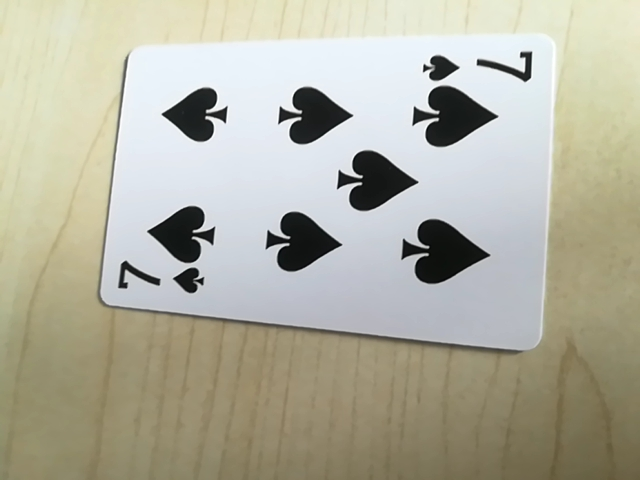ht 7: (416, 41, 537, 84), (108, 259, 210, 301)
